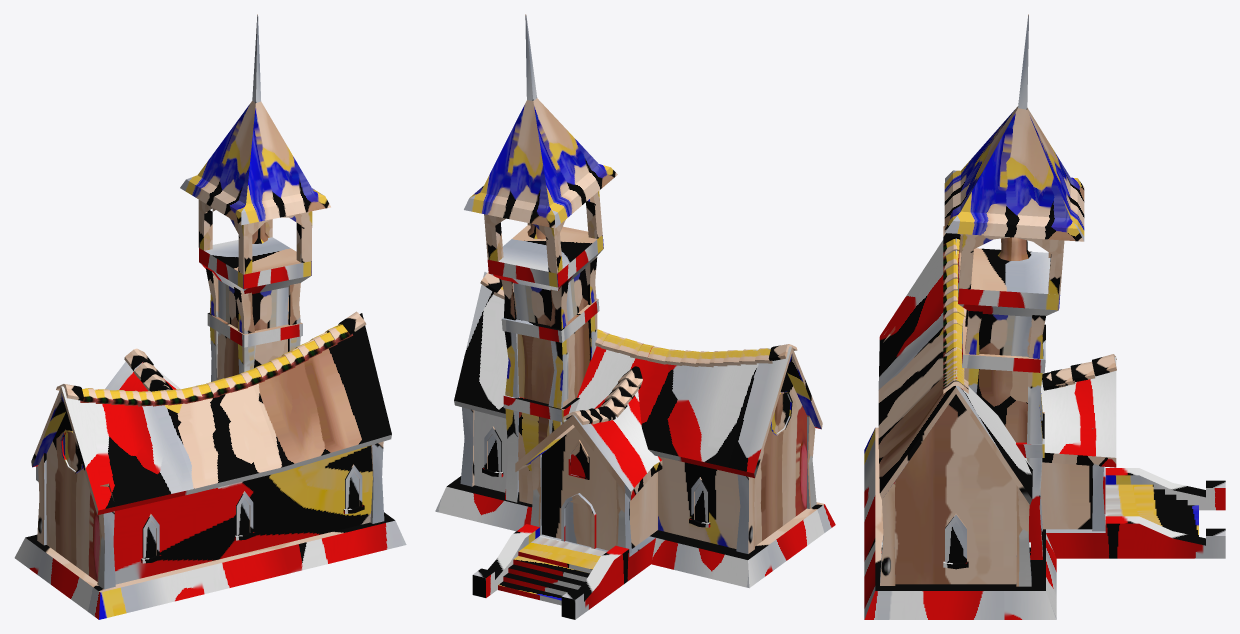
File: church.obj
The picture shows the model from 3 angles, left to right: view 1: azimuth 30°, elevation 25°; view 2: azimuth 150°, elevation 25°; view 3: azimuth 270°, elevation 25°; orthographic projection. The views are drawn at different scales.
Parts seen in each view (by area): view 1: church; view 2: church; view 3: church.
Boxes of the visible parts, <box> form: church: <box>14,14,406,619</box>; church: <box>435,14,835,619</box>; church: <box>864,14,1225,619</box>.
Size of the model in its own units: 41.51 by 64.13 by 37.18.
